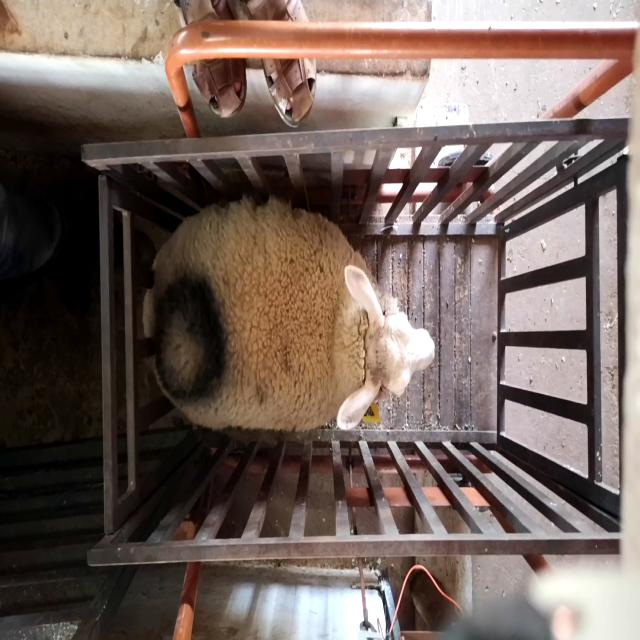sheep: (143, 194, 435, 433)
